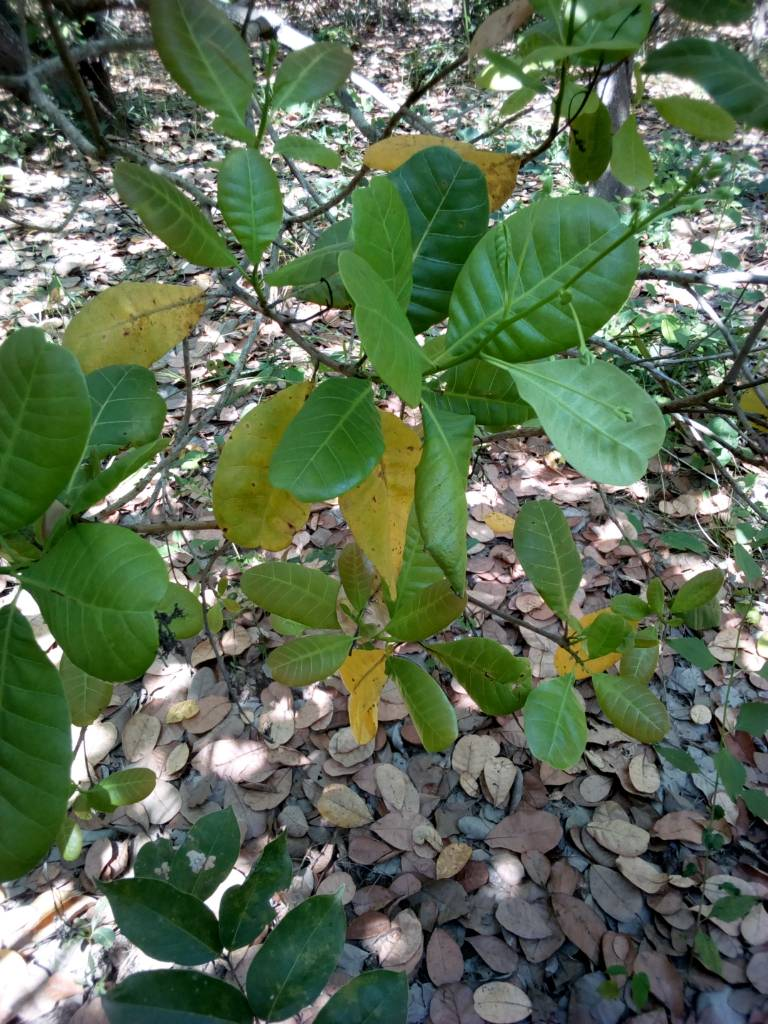Anthracnose: (216, 378, 335, 558), (336, 403, 421, 600), (65, 283, 218, 374), (363, 135, 521, 216)
